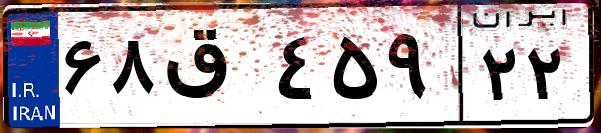2: (475, 38, 525, 113), (525, 38, 570, 115)
4: (270, 28, 330, 110)
5: (330, 28, 385, 110)
6: (57, 26, 110, 100)
8: (110, 28, 158, 98)
9: (385, 28, 445, 110)
ق: (158, 20, 270, 120)
